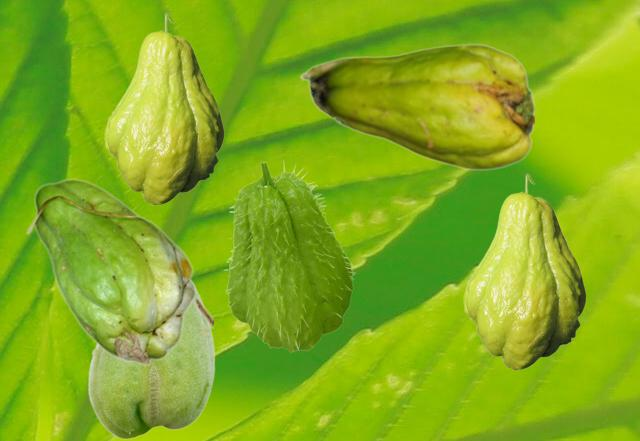sayote: (25, 178, 212, 365), (299, 43, 533, 170), (223, 159, 356, 351), (463, 173, 585, 369), (104, 12, 223, 204), (87, 291, 214, 438)
